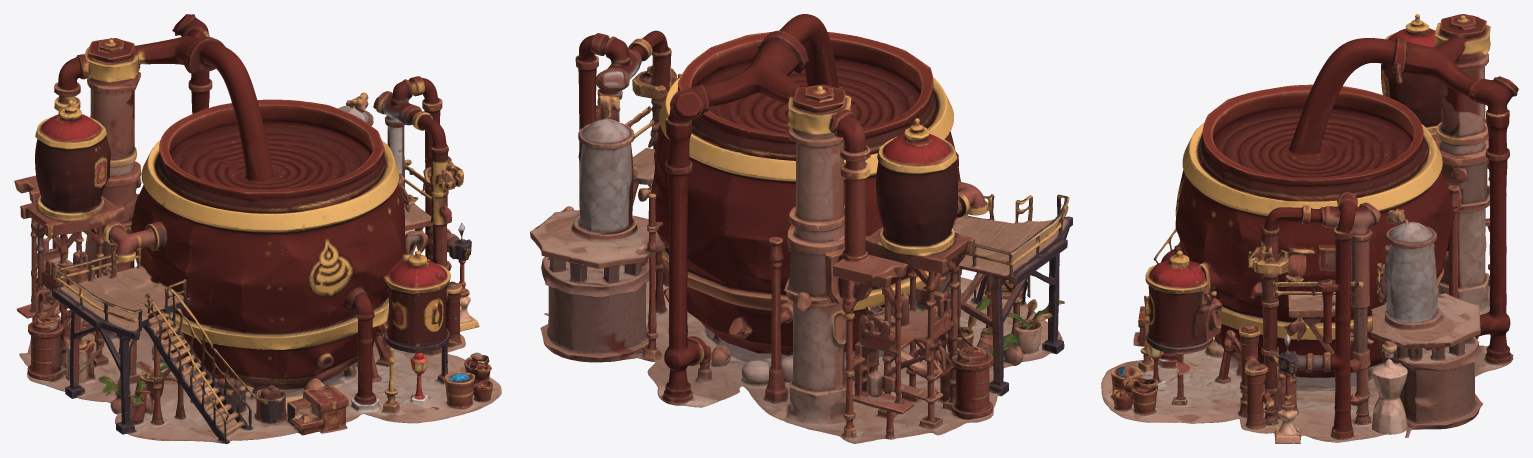
File: Meshy_AI_Steampunk_Chocolate_F_1024084601_texture.fbx
3 renders of one model, left to right at view 1: azimuth 30°, elevation 25°; view 2: azimuth 150°, elevation 25°; view 3: azimuth 270°, elevation 25°, orthographic. The views are drawn at different scales.
Parts seen in each view (by area): view 1: Mesh_0; view 2: Mesh_0; view 3: Mesh_0.
Part boxes in pixels (box(x1,y1,x2,y2)): Mesh_0: box(14, 14, 501, 443); Mesh_0: box(530, 14, 1072, 443); Mesh_0: box(1101, 14, 1518, 443).
Size of the model in its own units: 190 by 140 by 172.
1 material, 1 textured.
